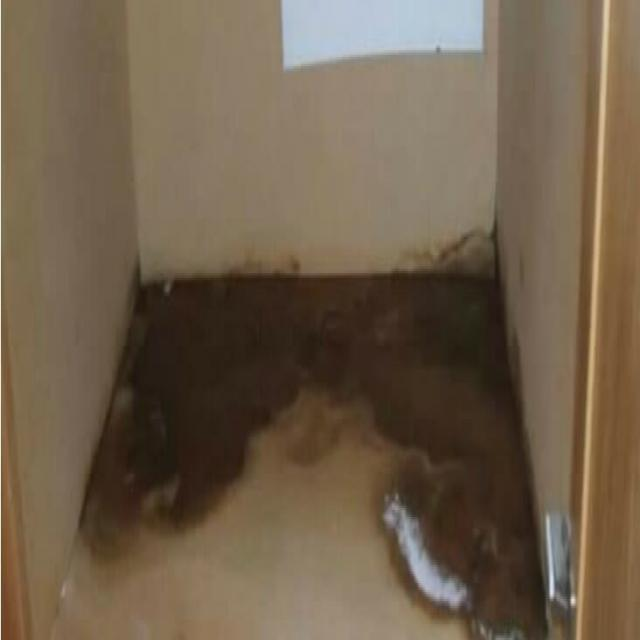dirty_floor: (65, 260, 549, 637)
